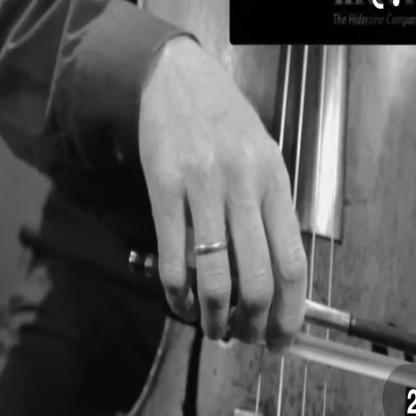good: (134, 67, 312, 371)
